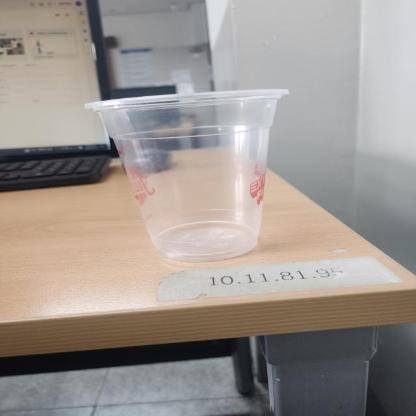Plastic Cup: (84, 87, 294, 261)
